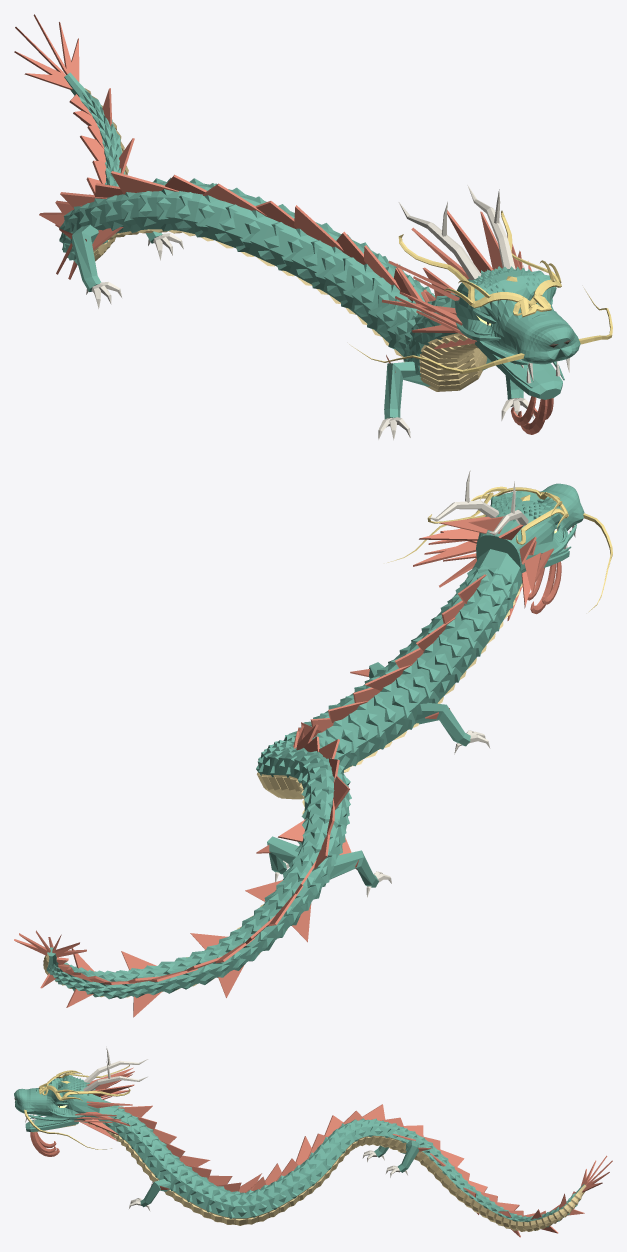
The model's file is Dragon_Long_v7.glb.
3 renders of one model, top to bottom at view 1: azimuth 30°, elevation 25°; view 2: azimuth 150°, elevation 25°; view 3: azimuth 270°, elevation 25°, orthographic. The views are drawn at different scales.
Visible parts, largest first — view 1: Body, Fins, Belly, Horns, Whiskers; view 2: Body, Fins, Whiskers, Horns, Belly; view 3: Body, Fins, Belly, Horns, Whiskers.
Part boxes in pixels (bbox=[...]): Body: bbox=[59, 72, 580, 419]; Fins: bbox=[14, 14, 553, 434]; Belly: bbox=[84, 88, 487, 391]; Horns: bbox=[86, 185, 569, 440]; Whiskers: bbox=[349, 210, 612, 373]; Body: bbox=[46, 483, 584, 999]; Fins: bbox=[14, 516, 561, 1017]; Whiskers: bbox=[387, 486, 612, 611]; Horns: bbox=[275, 470, 575, 897]; Belly: bbox=[43, 583, 522, 997]; Body: bbox=[14, 1075, 584, 1230]; Fins: bbox=[30, 1067, 612, 1237]; Belly: bbox=[33, 1122, 586, 1231]; Horns: bbox=[25, 1047, 407, 1211]; Whiskers: bbox=[24, 1064, 130, 1149].
Size of the model in its own units: 14.48 by 19.17 by 57.91.
